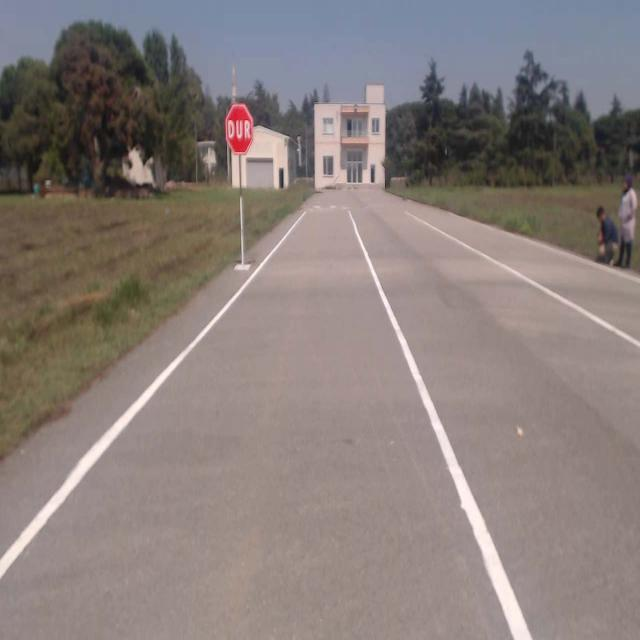dur: (226, 102, 254, 154)
